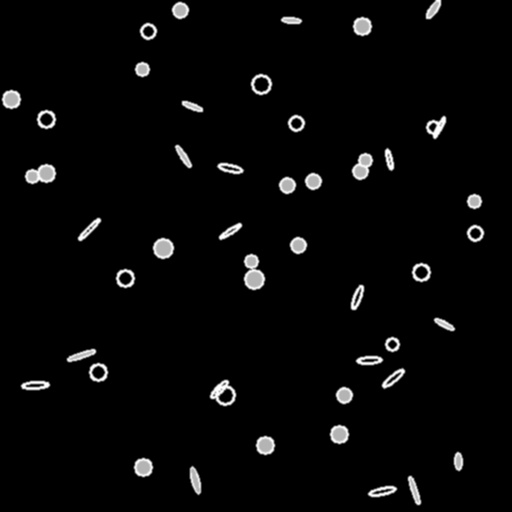pseudomonas: (77, 217, 101, 241), (381, 367, 405, 389), (218, 222, 242, 240), (209, 379, 229, 399), (174, 145, 192, 167), (67, 348, 95, 362), (407, 476, 421, 504), (188, 466, 202, 494), (350, 285, 364, 309), (217, 162, 243, 174), (369, 485, 395, 497), (432, 116, 446, 138), (425, 0, 441, 19), (434, 317, 454, 331), (181, 100, 203, 112), (21, 381, 49, 389), (384, 149, 394, 169), (357, 356, 381, 364), (281, 17, 301, 23), (455, 452, 461, 470)
synechocystis: (245, 270, 263, 288), (154, 239, 172, 257), (216, 386, 234, 404), (252, 75, 270, 93), (117, 270, 133, 286), (38, 111, 54, 127), (3, 91, 19, 107), (354, 18, 370, 34), (331, 426, 347, 442), (257, 437, 273, 453), (38, 165, 54, 181), (135, 459, 151, 475), (413, 264, 429, 280), (90, 364, 106, 380), (291, 238, 305, 252), (141, 24, 155, 38), (353, 164, 367, 178), (468, 226, 482, 240), (306, 174, 320, 188), (337, 388, 351, 402), (173, 3, 187, 17), (289, 116, 303, 130), (280, 178, 294, 192), (136, 63, 148, 75), (26, 170, 38, 182), (468, 195, 480, 207), (427, 121, 439, 133), (359, 154, 371, 166), (245, 255, 257, 267), (386, 338, 398, 350)
